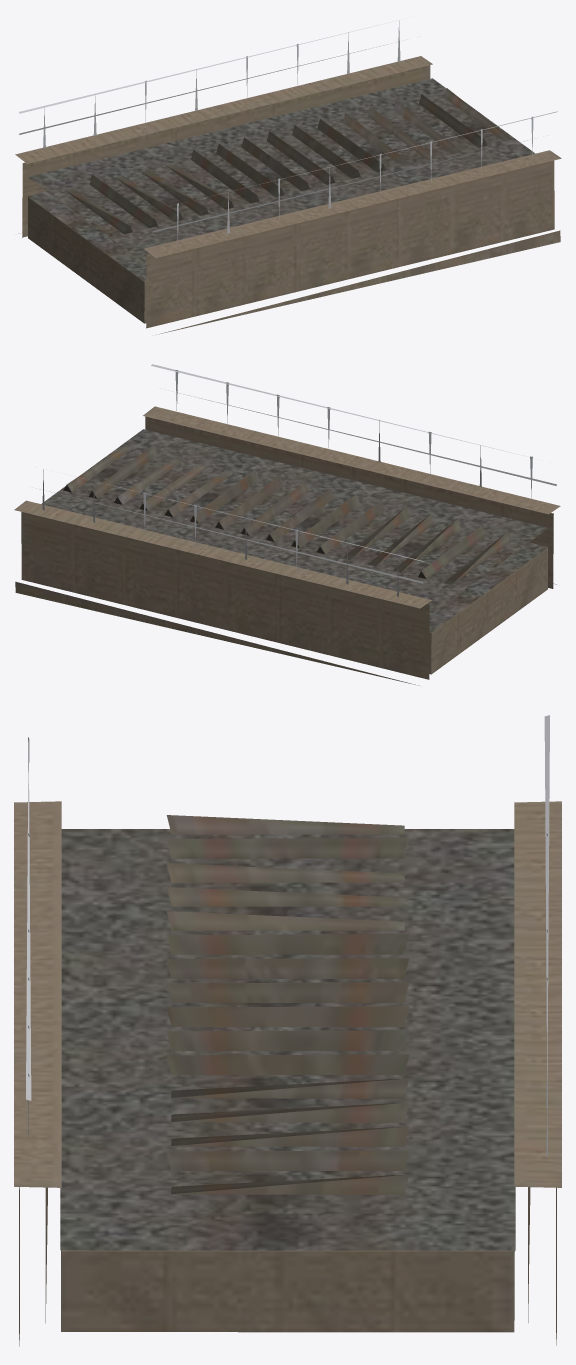
Rendered from rail-bridge-lod1.glb.
3 views of the same model, one above another, from view 1: azimuth 30°, elevation 25°; view 2: azimuth 150°, elevation 25°; view 3: azimuth 270°, elevation 25° (orthographic). The views are drawn at different scales.
Visible parts, largest first — view 1: rail-bridge.001; view 2: rail-bridge.001; view 3: rail-bridge.001.
Boxes of the visible parts, x1,y1,x2,y2 form: rail-bridge.001: (15,20,561,334); rail-bridge.001: (14,364,560,685); rail-bridge.001: (14,715,561,1346).
Size of the model in its own units: 10.1 by 3.06 by 6.02.
1 material, 1 textured.
